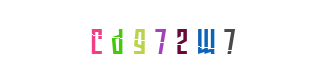2: (141, 0, 221, 80)
7: (127, 0, 207, 80), (166, 0, 246, 80)
C: (56, 0, 136, 80)
D: (77, 0, 157, 80)
G: (96, 0, 176, 80)
W: (162, 0, 242, 80)
